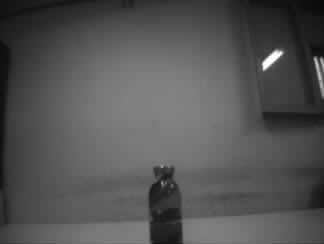Bottle: (147, 164, 185, 244)
